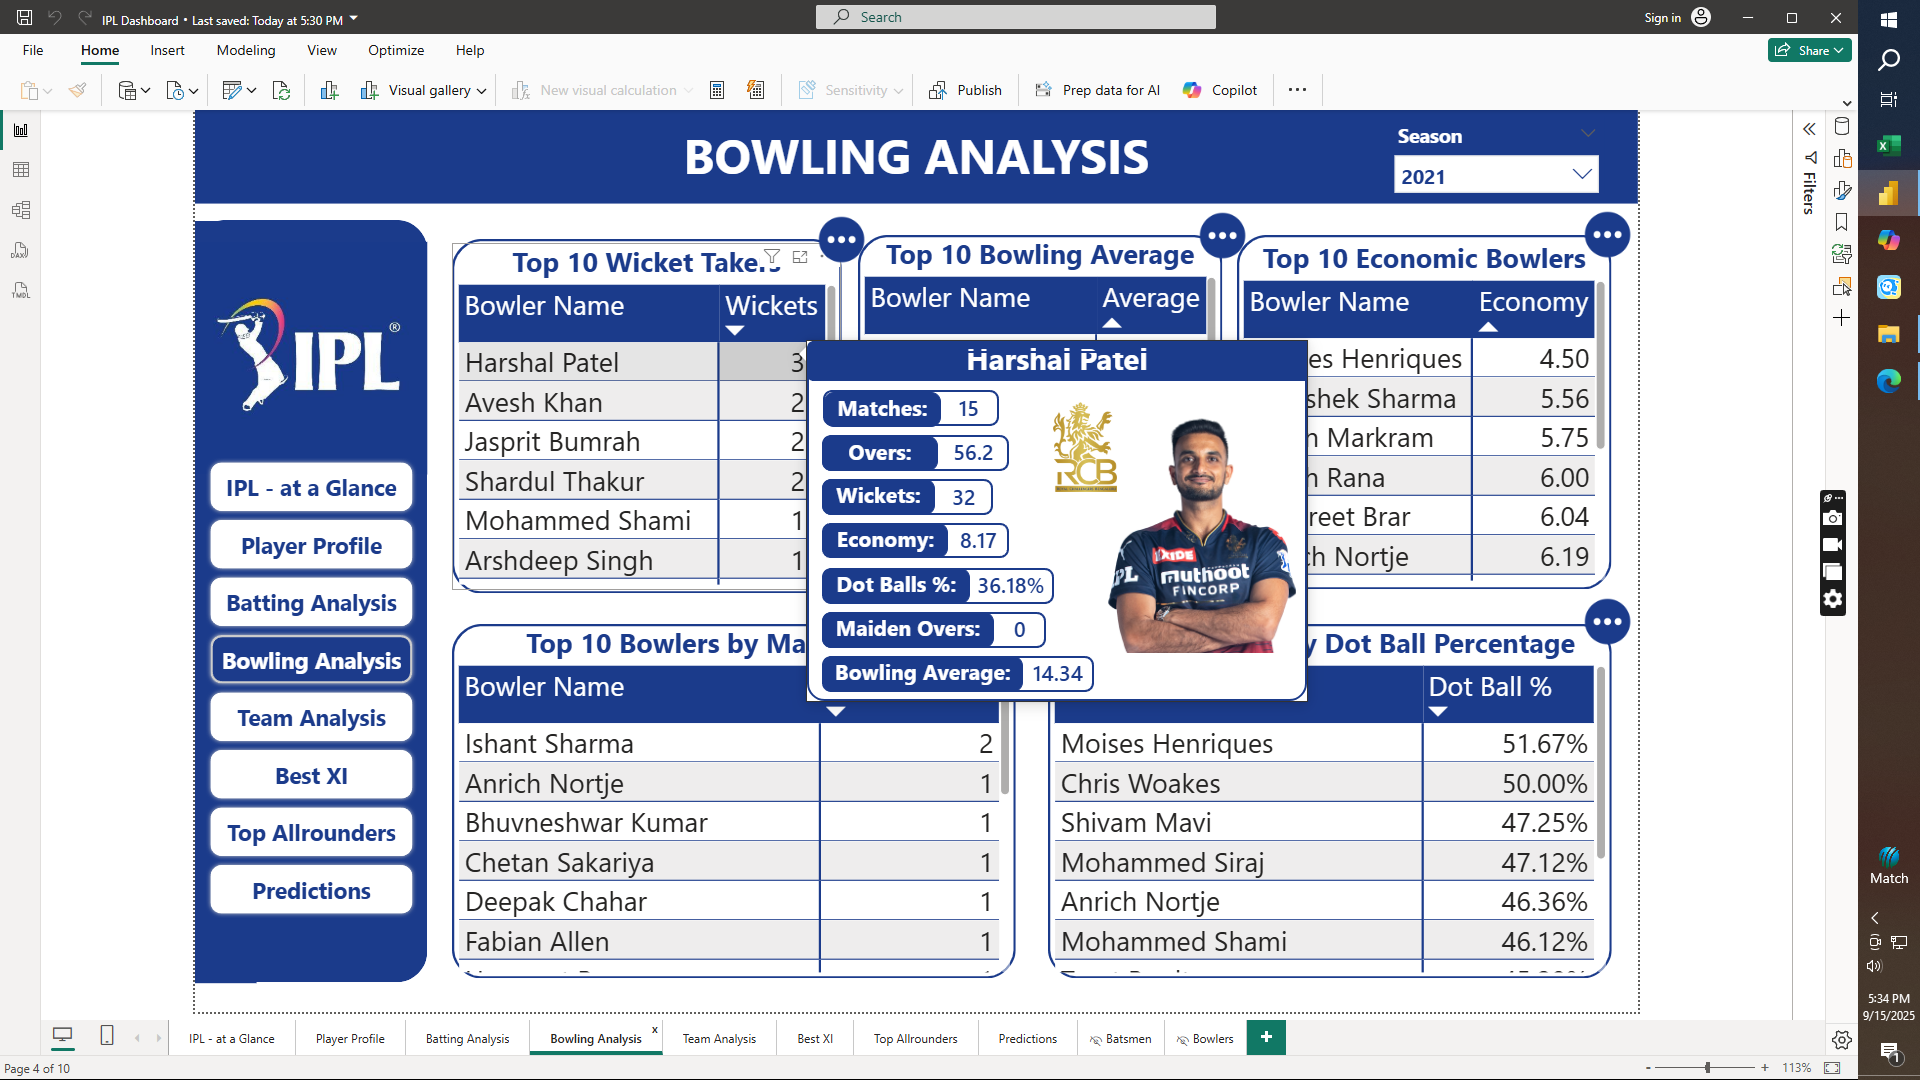

This screenshot's page, from the dashboard's own definition file:
{"tool":"powerbi","page":{"name":"Bowling Analysis","canvas":[1280,800],"ordinal":3},"visuals":[{"type":"shape","box":[0,0,1279.7,83.1],"z":0,"group":"g1"},{"type":"shape","box":[587.7,111,323.3,314.4],"z":0},{"type":"textbox","box":[0,4.9,1279.7,73.2],"z":1000,"group":"g1"},{"type":"shape","box":[227.8,455.4,500,314.4],"z":1000},{"type":"shape","box":[924.4,111,332.2,314.4],"z":2000},{"type":"tableEx","title":"Top 10 Economic Bowlers","fields":{"Values":["Balls bowled by bowlers.Bowler Name","_Measures.Bowler's Economy"]},"box":[924.4,114.3,332.2,307.8],"z":3000},{"type":"shape","box":[227.8,114.3,345.6,314.4],"z":4000},{"type":"tableEx","title":"Top 10 Wicket Takers","fields":{"Values":["Balls bowled by bowlers.Bowler Name","_Measures.Total Wickets"]},"box":[227.8,117.7,345.6,307.8],"z":5000},{"type":"shape","box":[756.7,455.4,500,314.4],"z":6000},{"type":"tableEx","title":"Top 10 Bowling Average","fields":{"Values":["Balls bowled by bowlers.Bowler Name","_Measures.Bowling Average"]},"box":[587.7,111,323.3,314.4],"z":7000},{"type":"tableEx","title":"Top 10 Bowlers by Dot Ball Percentage","fields":{"Values":["Balls bowled by bowlers.Bowler Name","_Measures.Dot Ball Percentahge"]},"box":[756.7,455.4,500,314.4],"z":8000},{"type":"tableEx","title":"Top 10 Bowlers by Maiden Overs","fields":{"Values":["Balls bowled by bowlers.Bowler Name","Sum(fact_bowling_summary.maiden)"]},"box":[227.8,455.4,500,314.4],"z":9000},{"type":"group","id":"g1","title":"Group 1","box":[0,0,1279.7,83.1],"z":10000},{"type":"slicer","fields":{"Values":["Finalists.Year"]},"box":[1059,4.9,191,69.3],"z":11000},{"type":"shape","box":[0,98,54.6,676],"z":12000},{"type":"shape","box":[0,98,205.9,676],"z":13000},{"type":"image","box":[0,110.3,205.9,219.7],"z":14000},{"type":"pageNavigator","box":[9.9,308.4,187.2,410.8],"z":15000},{"type":"image","box":[1224.4,425.6,55.6,55.6],"z":16000},{"type":"image","box":[1224.4,82.2,55.6,55.6],"z":17000},{"type":"image","box":[700,428.9,55.6,55.6],"z":18000},{"type":"image","box":[883.3,83.3,55.6,55.6],"z":19000},{"type":"image","box":[545.6,86.7,55.6,55.6],"z":20000}]}

Visuals, with their boxes on the page's 1280x800 design canvas (x1, y1, x2, y2). These are canvas units, not pixel positions in the 1920x1080 screenshot, which may show the page scaled, cropped or inside an application window:
shape: region(0, 0, 1280, 83)
shape: region(588, 111, 911, 425)
textbox: region(0, 5, 1280, 78)
shape: region(228, 455, 728, 770)
shape: region(924, 111, 1257, 425)
"Top 10 Economic Bowlers" tableEx: region(924, 114, 1257, 422)
shape: region(228, 114, 573, 429)
"Top 10 Wicket Takers" tableEx: region(228, 118, 573, 426)
shape: region(757, 455, 1257, 770)
"Top 10 Bowling Average" tableEx: region(588, 111, 911, 425)
"Top 10 Bowlers by Dot Ball Percentage" tableEx: region(757, 455, 1257, 770)
"Top 10 Bowlers by Maiden Overs" tableEx: region(228, 455, 728, 770)
"Group 1" group: region(0, 0, 1280, 83)
slicer - Finalists.Year: region(1059, 5, 1250, 74)
shape: region(0, 98, 55, 774)
shape: region(0, 98, 206, 774)
image: region(0, 110, 206, 330)
pageNavigator: region(10, 308, 197, 719)
image: region(1224, 426, 1280, 481)
image: region(1224, 82, 1280, 138)
image: region(700, 429, 756, 484)
image: region(883, 83, 939, 139)
image: region(546, 87, 601, 142)
